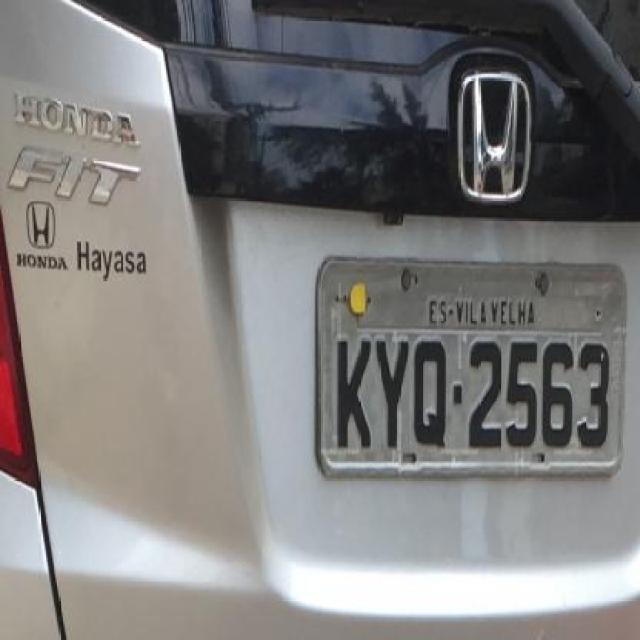old_plate: (304, 243, 634, 487)
